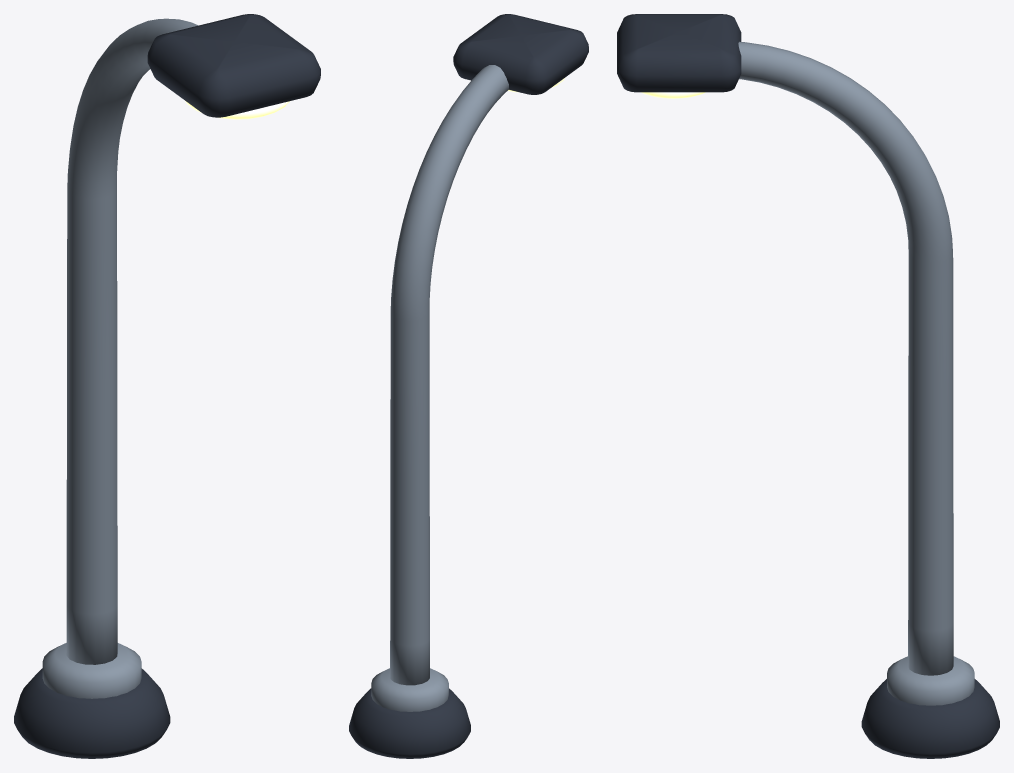
File: deco-farol.glb
The picture shows the model from 3 angles, left to right: view 1: azimuth 30°, elevation 25°; view 2: azimuth 150°, elevation 25°; view 3: azimuth 270°, elevation 25°; orthographic projection. The views are drawn at different scales.
Visible parts, largest first — view 1: deco-farol; view 2: deco-farol; view 3: deco-farol.
Part boxes in pixels (x1,y1,x2,y2): deco-farol: (14,14,320,758); deco-farol: (349,14,588,758); deco-farol: (617,14,999,758).
Size of the model in its own units: 1.44 by 8 by 3.97.
